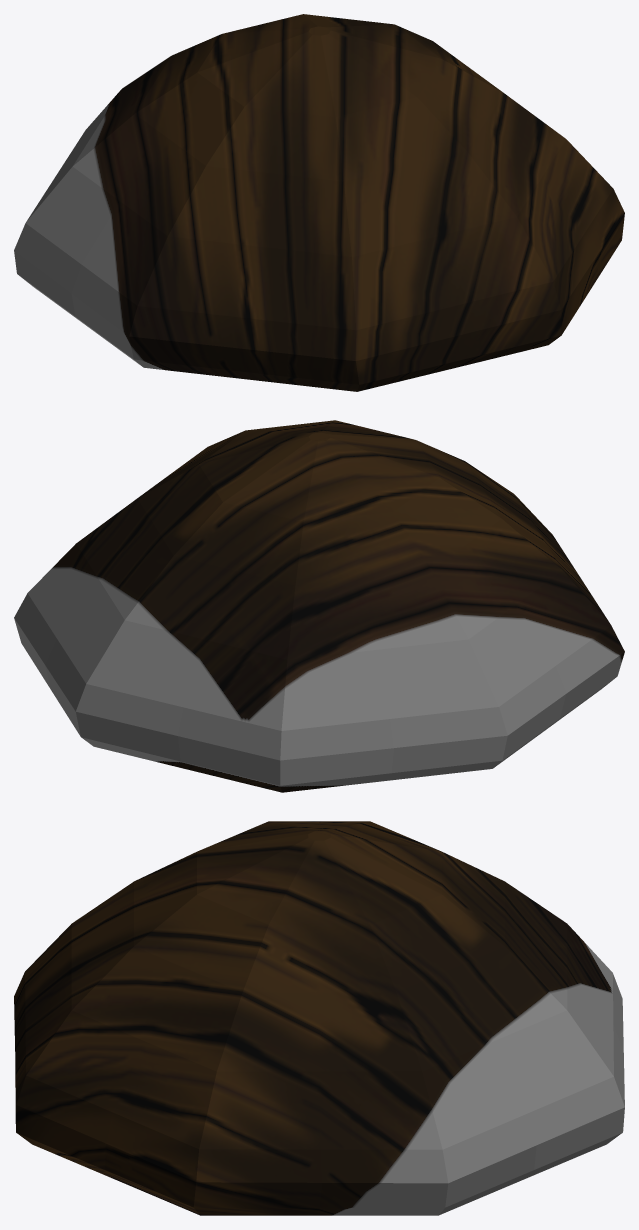
Rendered from HatMushroom.fbx.
The picture shows the model from 3 angles, top to bottom: view 1: azimuth 30°, elevation 25°; view 2: azimuth 150°, elevation 25°; view 3: azimuth 270°, elevation 25°; orthographic projection. The views are drawn at different scales.
Parts seen in each view (by area): view 1: Cylinder.018; view 2: Cylinder.018; view 3: Cylinder.018.
Boxes of the visible parts, <box> form: Cylinder.018: <box>14,14,624,391</box>; Cylinder.018: <box>14,420,624,792</box>; Cylinder.018: <box>14,821,624,1215</box>.
Bounding box in the file's own units: 10.88 × 10.68 × 5.19.
1 material, 1 textured.
